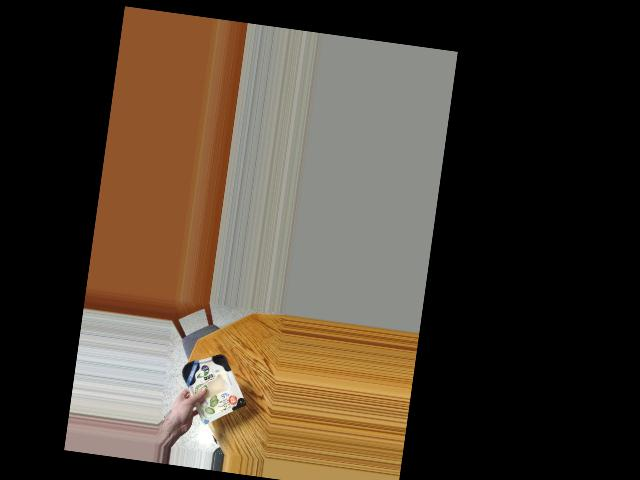cheese: (176, 344, 246, 419)
